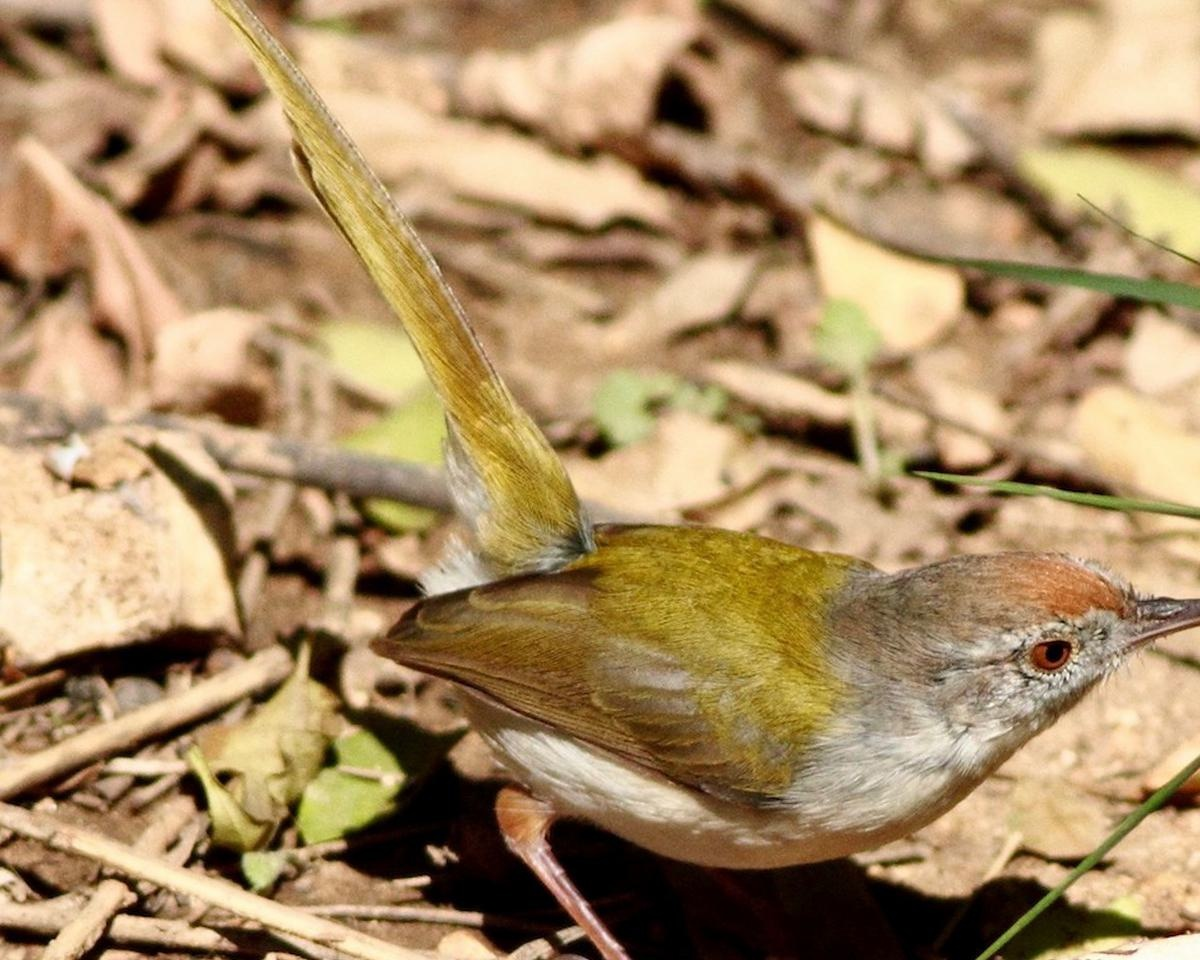tailorbird: (276, 155, 1151, 897)
